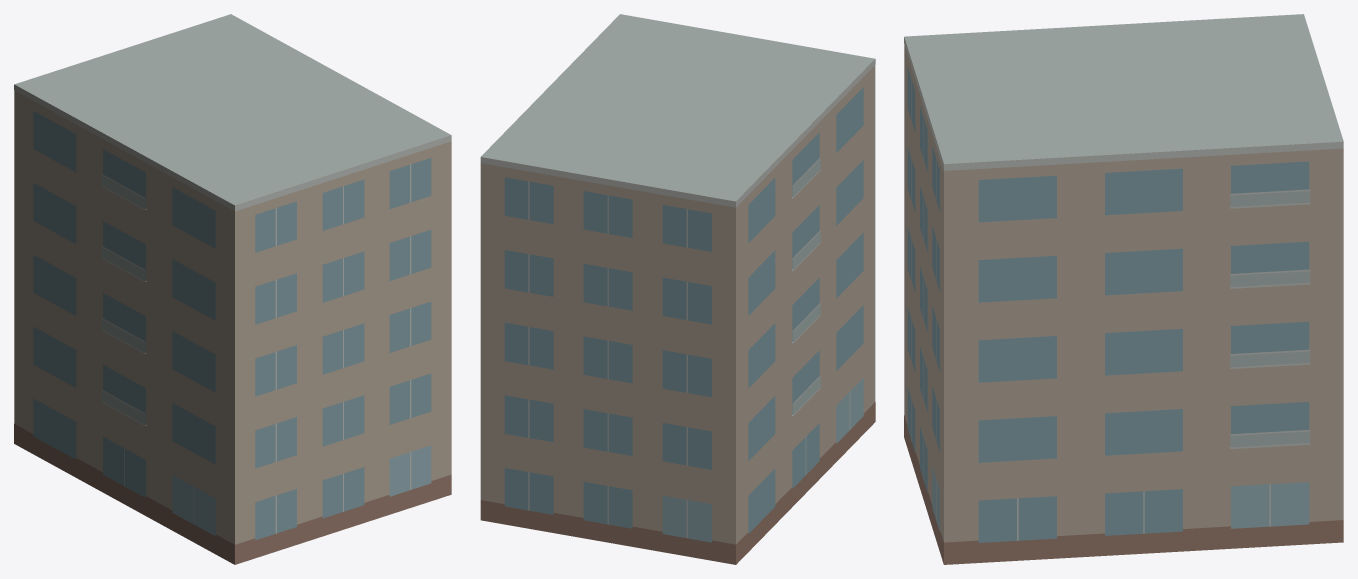
The model's file is survey-upis-33017527.glb.
3 renders of one model, left to right at view 1: azimuth 30°, elevation 25°; view 2: azimuth 150°, elevation 25°; view 3: azimuth 270°, elevation 25°, orthographic. The views are drawn at different scales.
Parts seen in each view (by area): view 1: survey-upis-33017527.tmp; view 2: survey-upis-33017527.tmp; view 3: survey-upis-33017527.tmp.
Boxes of the visible parts, box(x1,y1,x2,y2) form: survey-upis-33017527.tmp: box(14, 14, 451, 564); survey-upis-33017527.tmp: box(480, 14, 875, 564); survey-upis-33017527.tmp: box(904, 14, 1343, 564).
Size of the model in its own units: 11.63 by 14.45 by 14.38.
